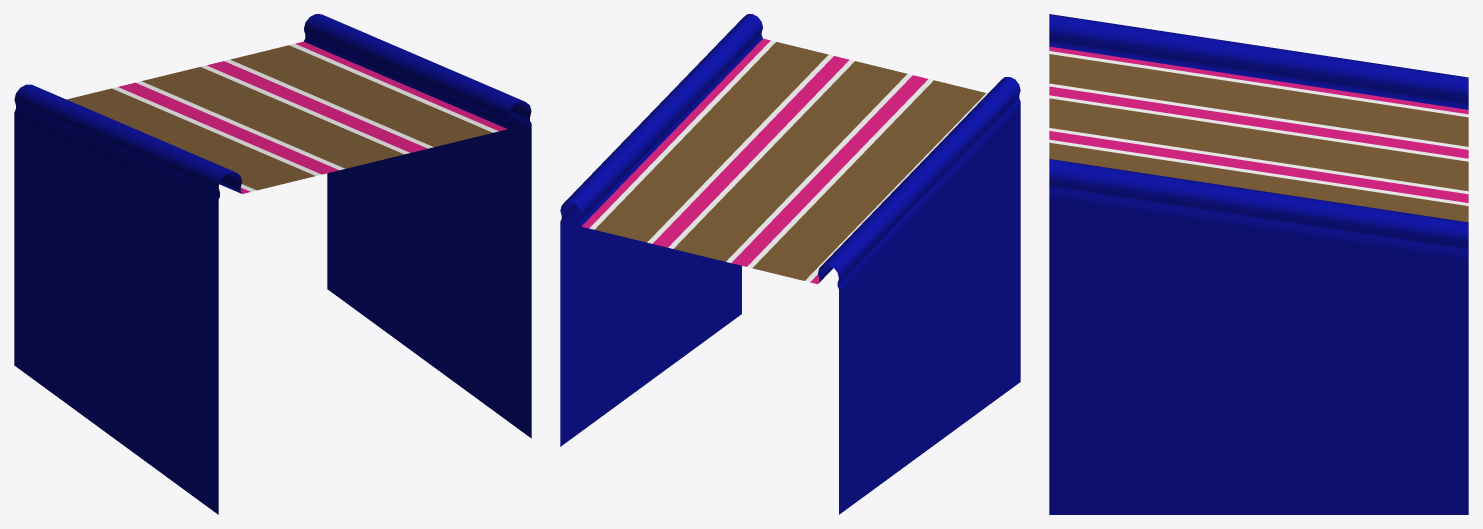
Rendered from Strunjaca_kosa.fbx.
The picture shows the model from 3 angles, left to right: view 1: azimuth 30°, elevation 25°; view 2: azimuth 150°, elevation 25°; view 3: azimuth 270°, elevation 25°; orthographic projection. The views are drawn at different scales.
Visible parts, largest first — view 1: Strunjaca_sticky; view 2: Strunjaca_sticky; view 3: Strunjaca_sticky.
Boxes of the visible parts, x1,y1,x2,y2 form: Strunjaca_sticky: (14, 14, 531, 514); Strunjaca_sticky: (560, 14, 1020, 514); Strunjaca_sticky: (1049, 14, 1468, 514).
Bounding box in the file's own units: 5.3 × 5.5 × 5.99.
